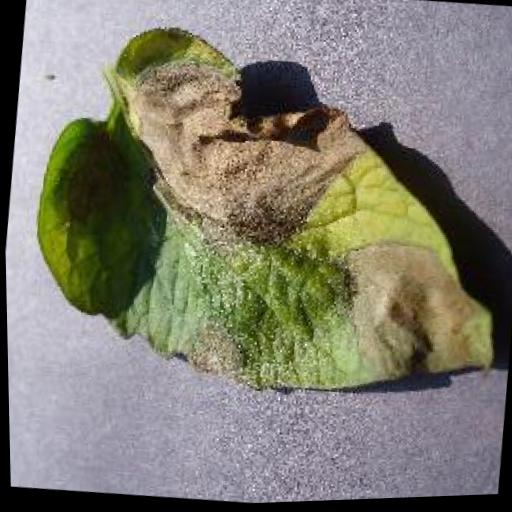Late Blight: (13, 4, 512, 426)
